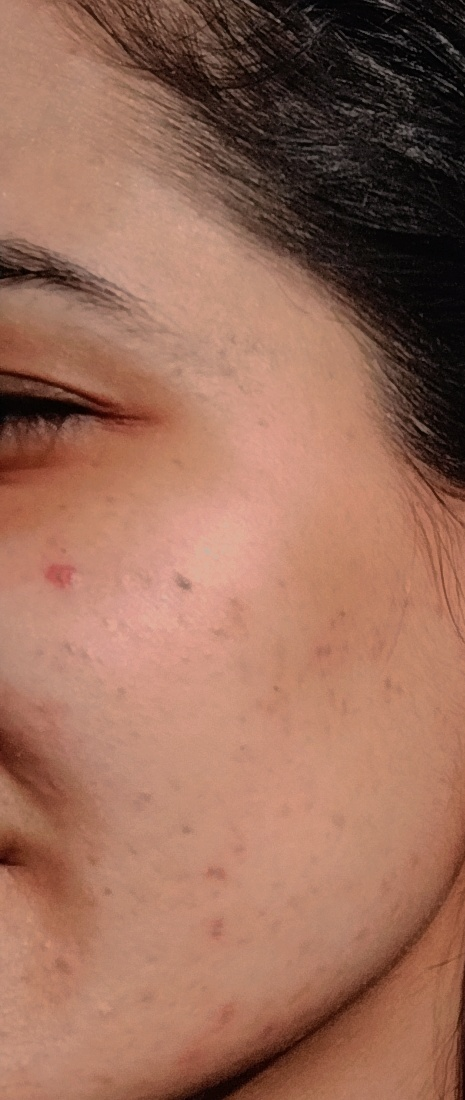papule: (30, 554, 103, 622), (186, 840, 241, 895)
